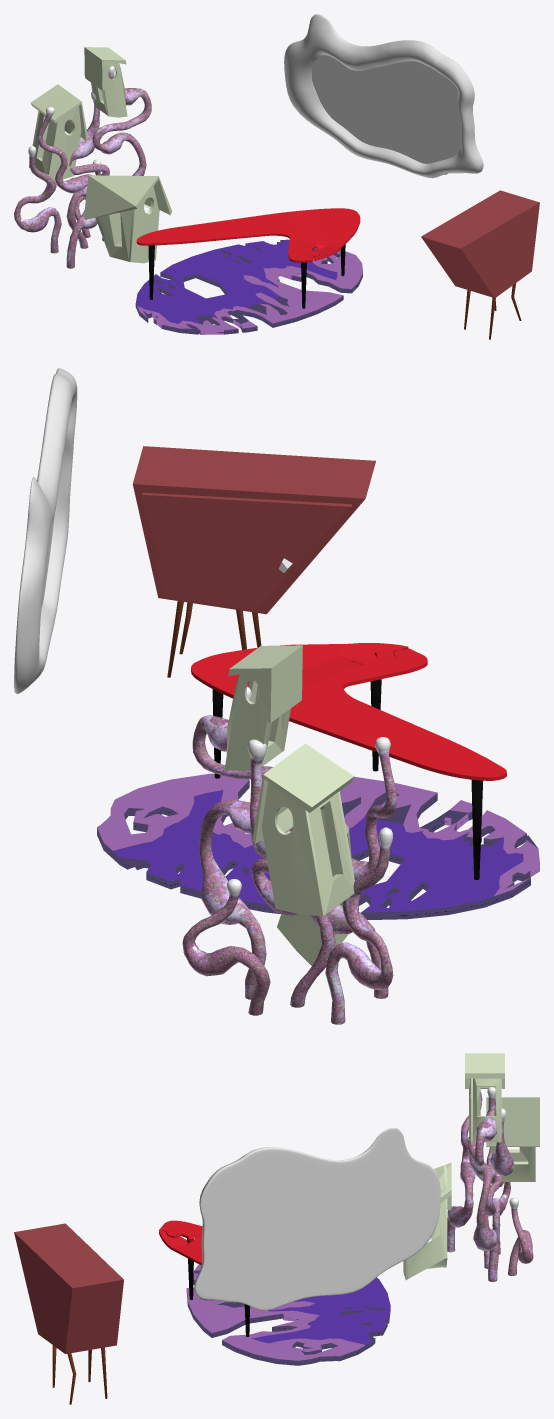
Rendered from escape room.fbx.
3 views of the same model, one above another, from view 1: azimuth 30°, elevation 25°; view 2: azimuth 150°, elevation 25°; view 3: azimuth 270°, elevation 25° (orthographic). The views are drawn at different scales.
Visible parts, largest first — view 1: Цилиндр.011, 32317_2_Metal_0.001, 32317_Plastic_0.001, Цилиндр.009, Окружность.001, Walls_lambert1_0.001, Walls_lambert1_0.002, Walls_lambert1_0, pCylinder23_lambert1_0, pCylinder24_lambert1_0, pCylinder22_lambert1_0, pCylinder21_lambert1_0; view 2: Цилиндр.011, Куб.003, Окружность.001, Цилиндр.009, Walls_lambert1_0.002, 32317_Plastic_0.001, Walls_lambert1_0, pCylinder23_lambert1_0, pCylinder24_lambert1_0, pCylinder25_lambert1_0, pCylinder21_lambert1_0, pCylinder22_lambert1_0 (+1 smaller); view 3: 32317_Plastic_0.001, Цилиндр.009, Цилиндр.011, Walls_lambert1_0.002, pCylinder23_lambert1_0, Walls_lambert1_0, Walls_lambert1_0.001, Окружность.001, pCylinder22_lambert1_0, pCylinder21_lambert1_0, pCylinder25_lambert1_0, pCylinder24_lambert1_0.
Boxes of the visible parts, x1=… form: Цилиндр.011: x1=135, y1=239, x2=362, y2=334; 32317_2_Metal_0.001: x1=311, y1=55, x2=461, y2=174; 32317_Plastic_0.001: x1=284, y1=14, x2=483, y2=178; Цилиндр.009: x1=421, y1=190, x2=539, y2=339; Окружность.001: x1=136, y1=208, x2=360, y2=308; Walls_lambert1_0.001: x1=84, y1=174, x2=172, y2=263; Walls_lambert1_0.002: x1=29, y1=84, x2=87, y2=180; Walls_lambert1_0: x1=84, y1=47, x2=127, y2=117; pCylinder23_lambert1_0: x1=92, y1=66, x2=151, y2=241; pCylinder24_lambert1_0: x1=14, y1=145, x2=61, y2=253; pCylinder22_lambert1_0: x1=36, y1=106, x2=97, y2=268; pCylinder21_lambert1_0: x1=66, y1=91, x2=109, y2=248; Цилиндр.011: x1=97, y1=773, x2=539, y2=919; Куб.003: x1=142, y1=492, x2=352, y2=609; Окружность.001: x1=191, y1=643, x2=506, y2=879; Цилиндр.009: x1=132, y1=446, x2=375, y2=677; Walls_lambert1_0.002: x1=252, y1=743, x2=354, y2=916; 32317_Plastic_0.001: x1=14, y1=368, x2=77, y2=694; Walls_lambert1_0: x1=224, y1=645, x2=302, y2=770; pCylinder23_lambert1_0: x1=192, y1=686, x2=272, y2=999; pCylinder24_lambert1_0: x1=325, y1=827, x2=393, y2=1024; pCylinder25_lambert1_0: x1=182, y1=879, x2=270, y2=1015; pCylinder21_lambert1_0: x1=247, y1=739, x2=336, y2=1007; pCylinder22_lambert1_0: x1=308, y1=737, x2=396, y2=998; 32317_Plastic_0.001: x1=194, y1=1128, x2=440, y2=1310; Цилиндр.009: x1=14, y1=1223, x2=123, y2=1404; Цилиндр.011: x1=186, y1=1264, x2=390, y2=1365; Walls_lambert1_0.002: x1=486, y1=1097, x2=539, y2=1181; pCylinder23_lambert1_0: x1=468, y1=1087, x2=499, y2=1281; Walls_lambert1_0: x1=465, y1=1053, x2=504, y2=1142; Walls_lambert1_0.001: x1=403, y1=1162, x2=451, y2=1280; Окружность.001: x1=159, y1=1220, x2=249, y2=1336; pCylinder22_lambert1_0: x1=447, y1=1092, x2=482, y2=1252; pCylinder21_lambert1_0: x1=484, y1=1108, x2=514, y2=1268; pCylinder25_lambert1_0: x1=508, y1=1197, x2=533, y2=1275; pCylinder24_lambert1_0: x1=486, y1=1147, x2=510, y2=1254.
Bounding box in the file's own units: 681 × 438 × 827.
